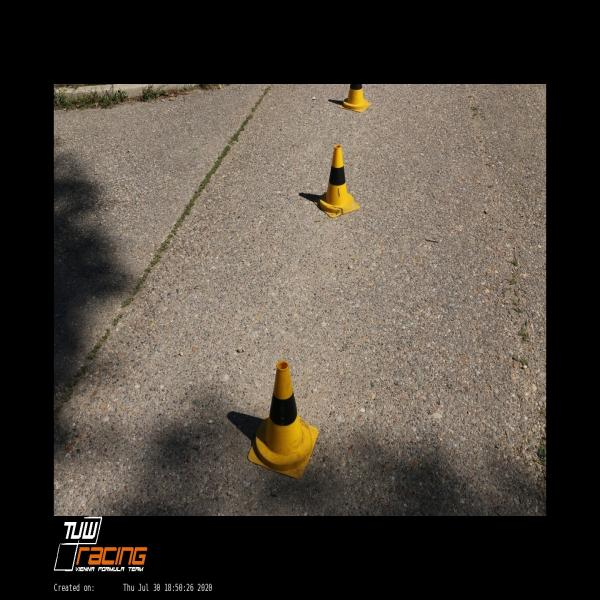yellow_cone: (248, 360, 318, 480), (314, 145, 360, 218), (338, 84, 372, 112)
